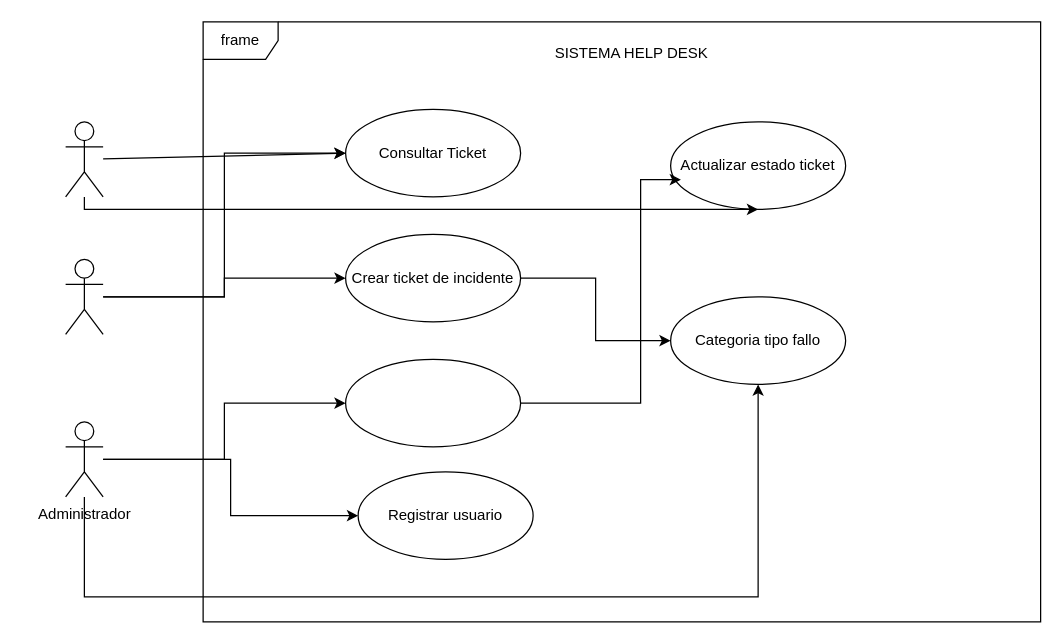
The diagram is 1063 pixels wide and 644 high, and some of its shapes have lost their labels. The centre of each missing label's shape, as x and y in pixels:
Asignar tecnico especializado: pixel 432 402
Tecnico de soporte: pixel 83 159
Usuario final: pixel 83 296
